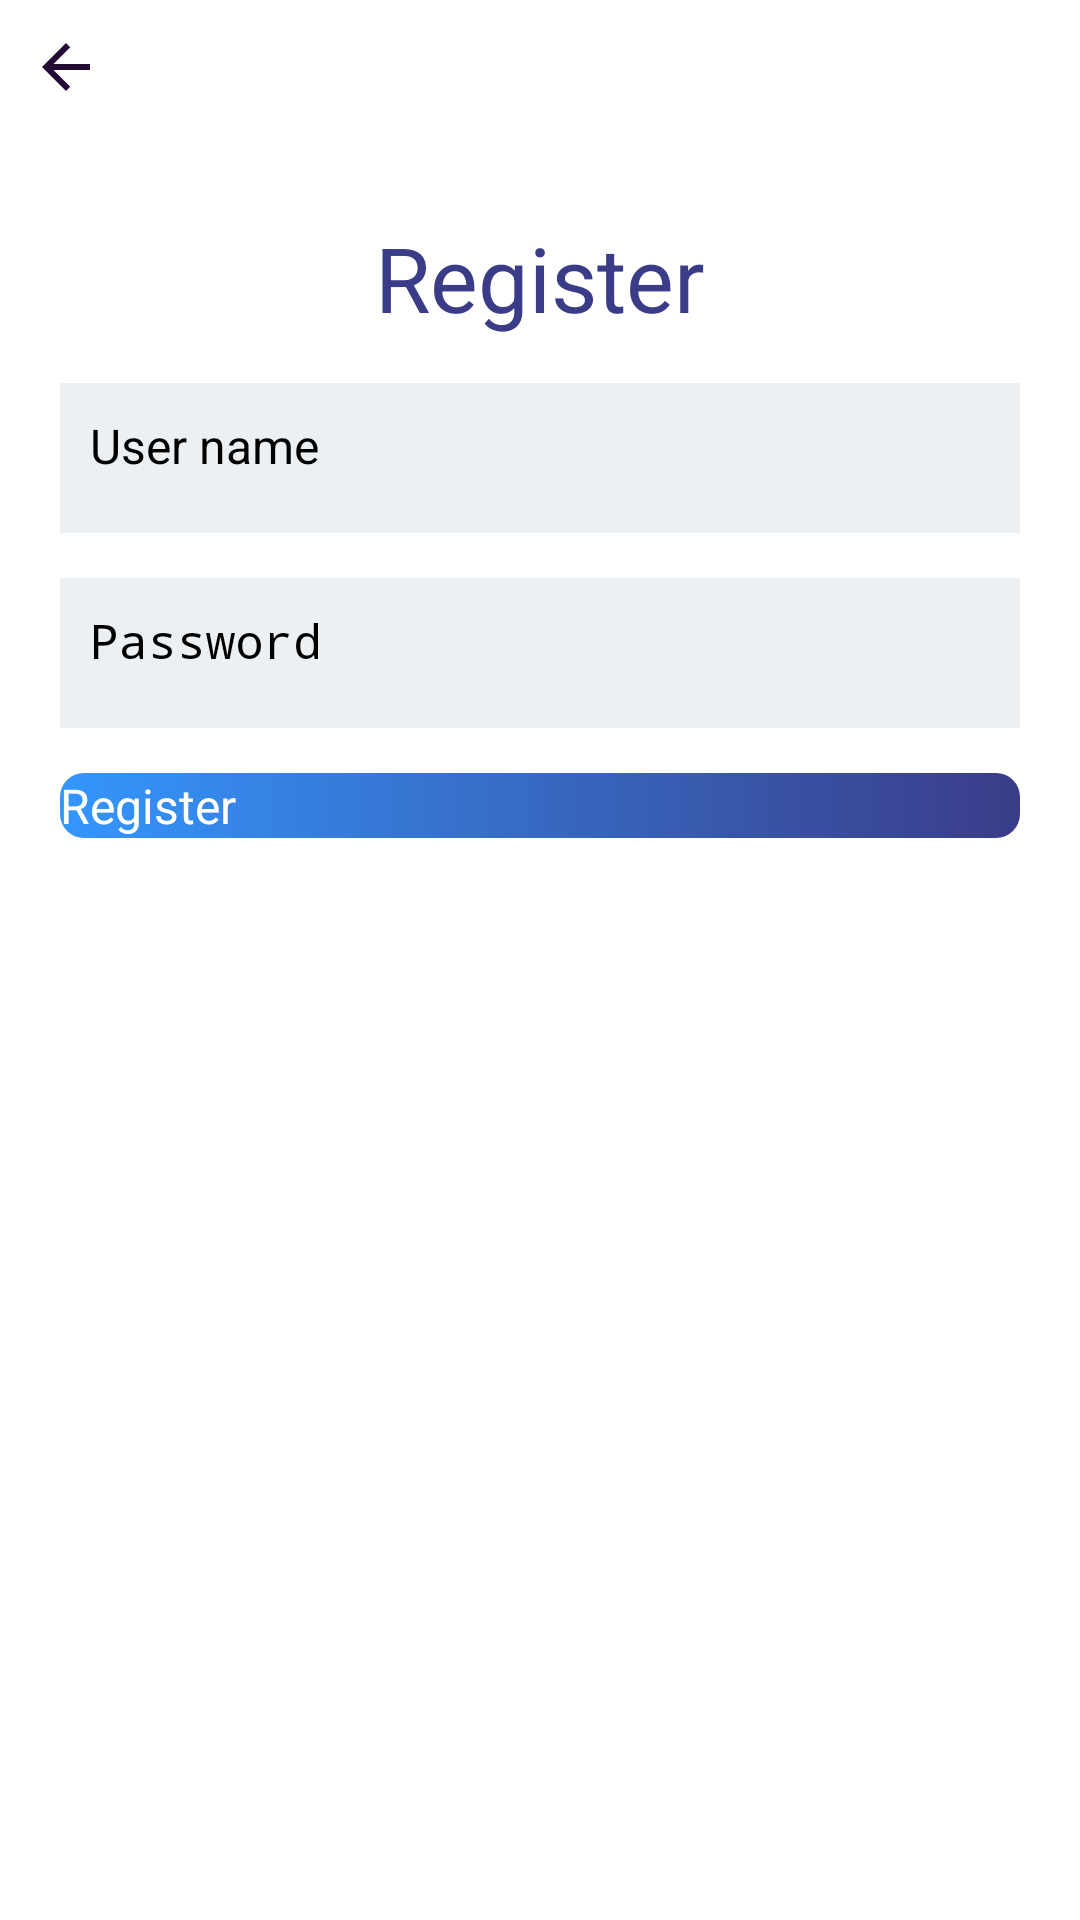

Icons on this 1080px x 1920px Android screen, each with its box as region(x1, y1, x2, y2):
Back: region(42, 43, 90, 91)
